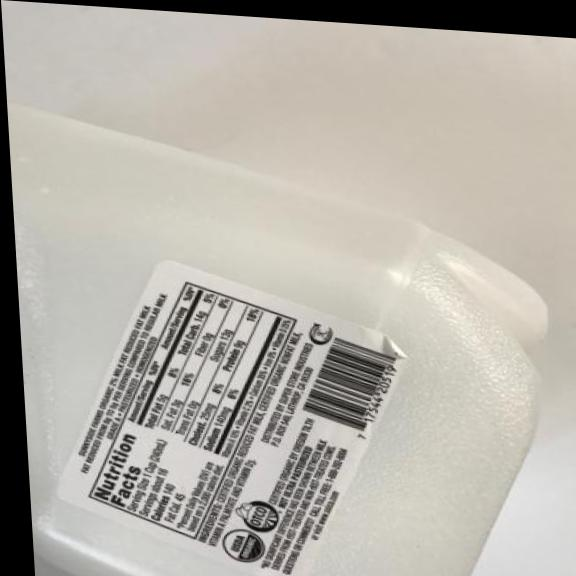Plastik: (7, 112, 569, 576)
